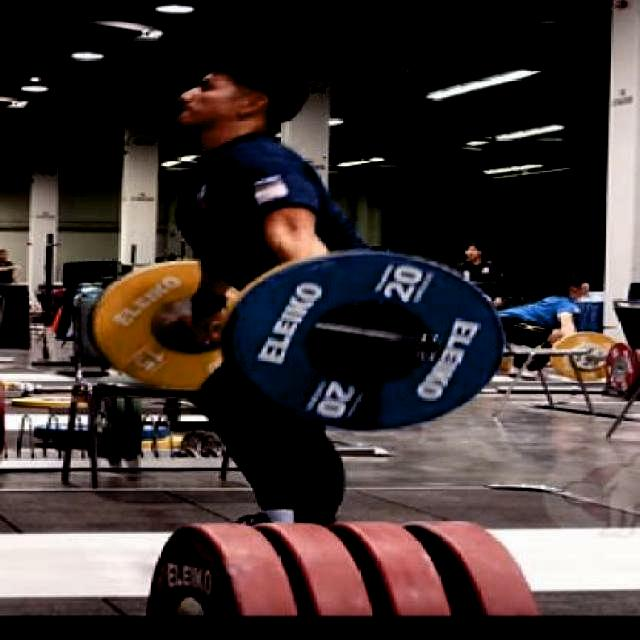barbell: (207, 246, 514, 432)
